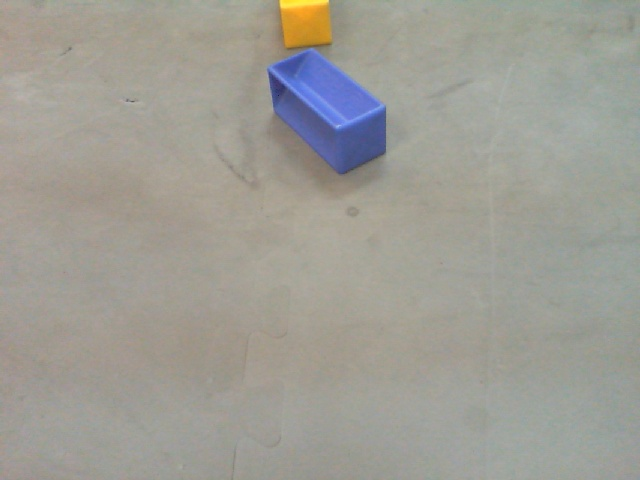BlueSample: (266, 48, 389, 178)
YellowSample: (279, 1, 336, 48)
